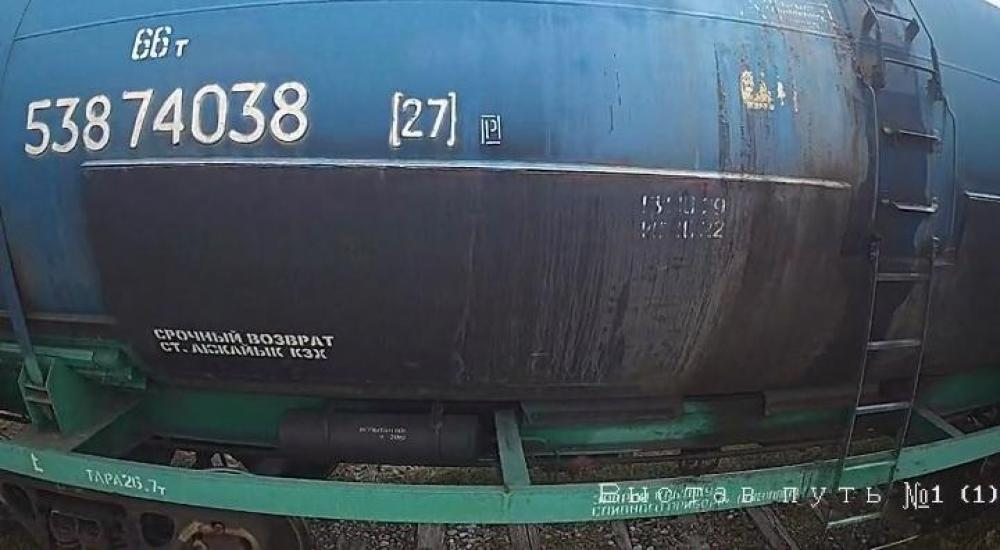Wagon-number: (21, 77, 315, 162)
